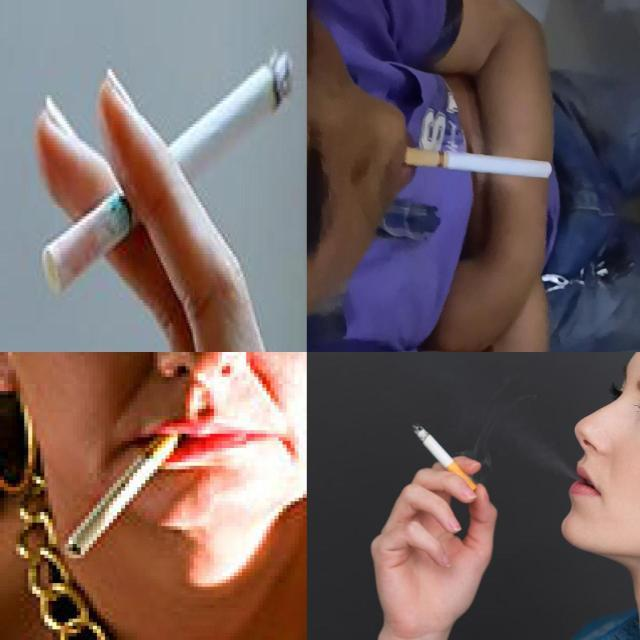smoking: (41, 50, 292, 298), (66, 429, 180, 559), (404, 148, 554, 178), (413, 424, 478, 492)
